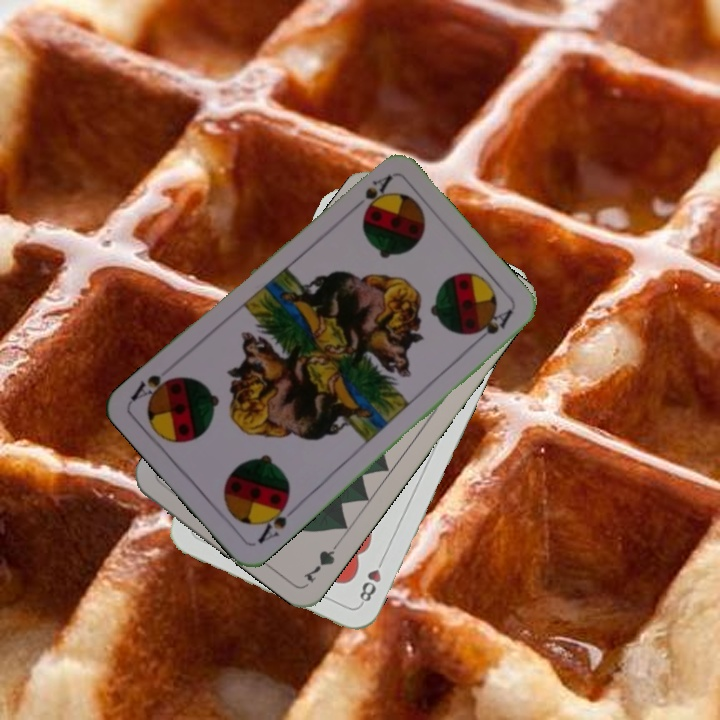G7: (299, 534, 344, 585)
H8: (355, 552, 388, 608)
SA: (253, 495, 300, 547), (346, 170, 395, 214)
